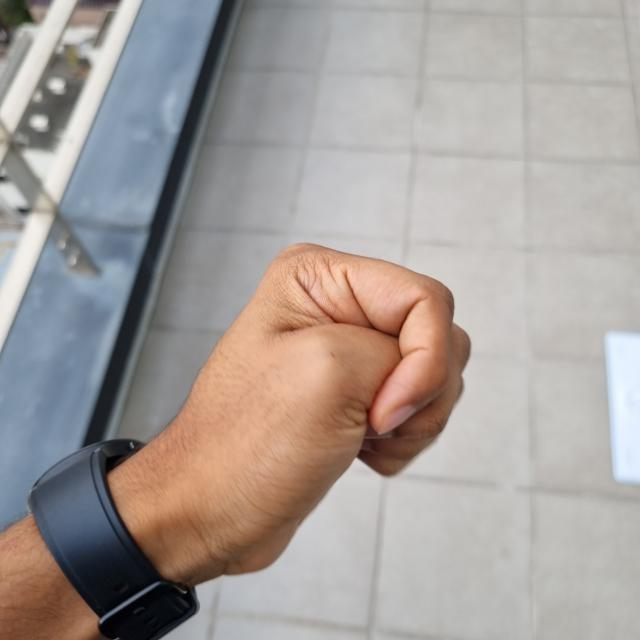Rock: (130, 246, 463, 574)
